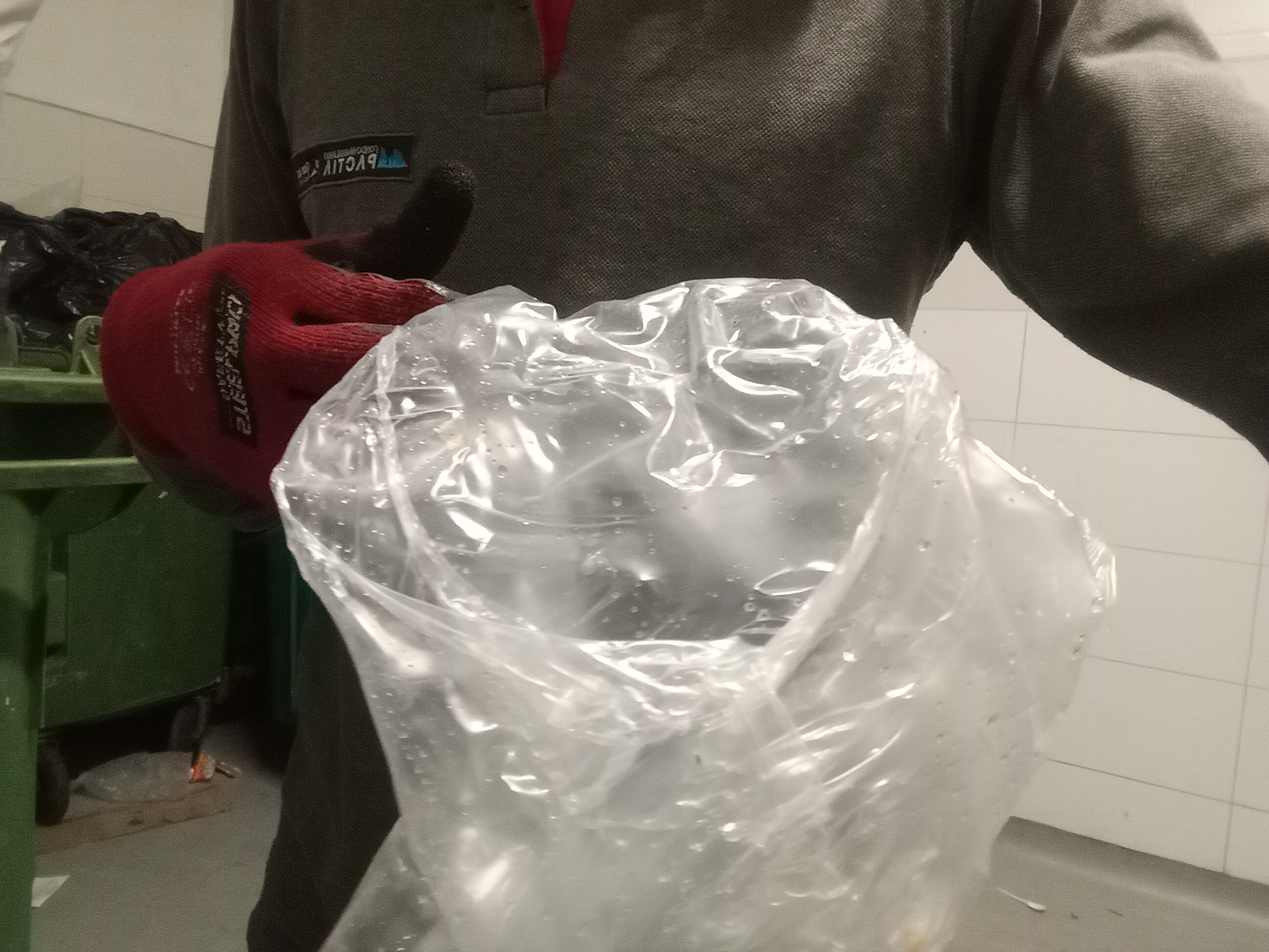Plastico: (269, 278, 1118, 952)
